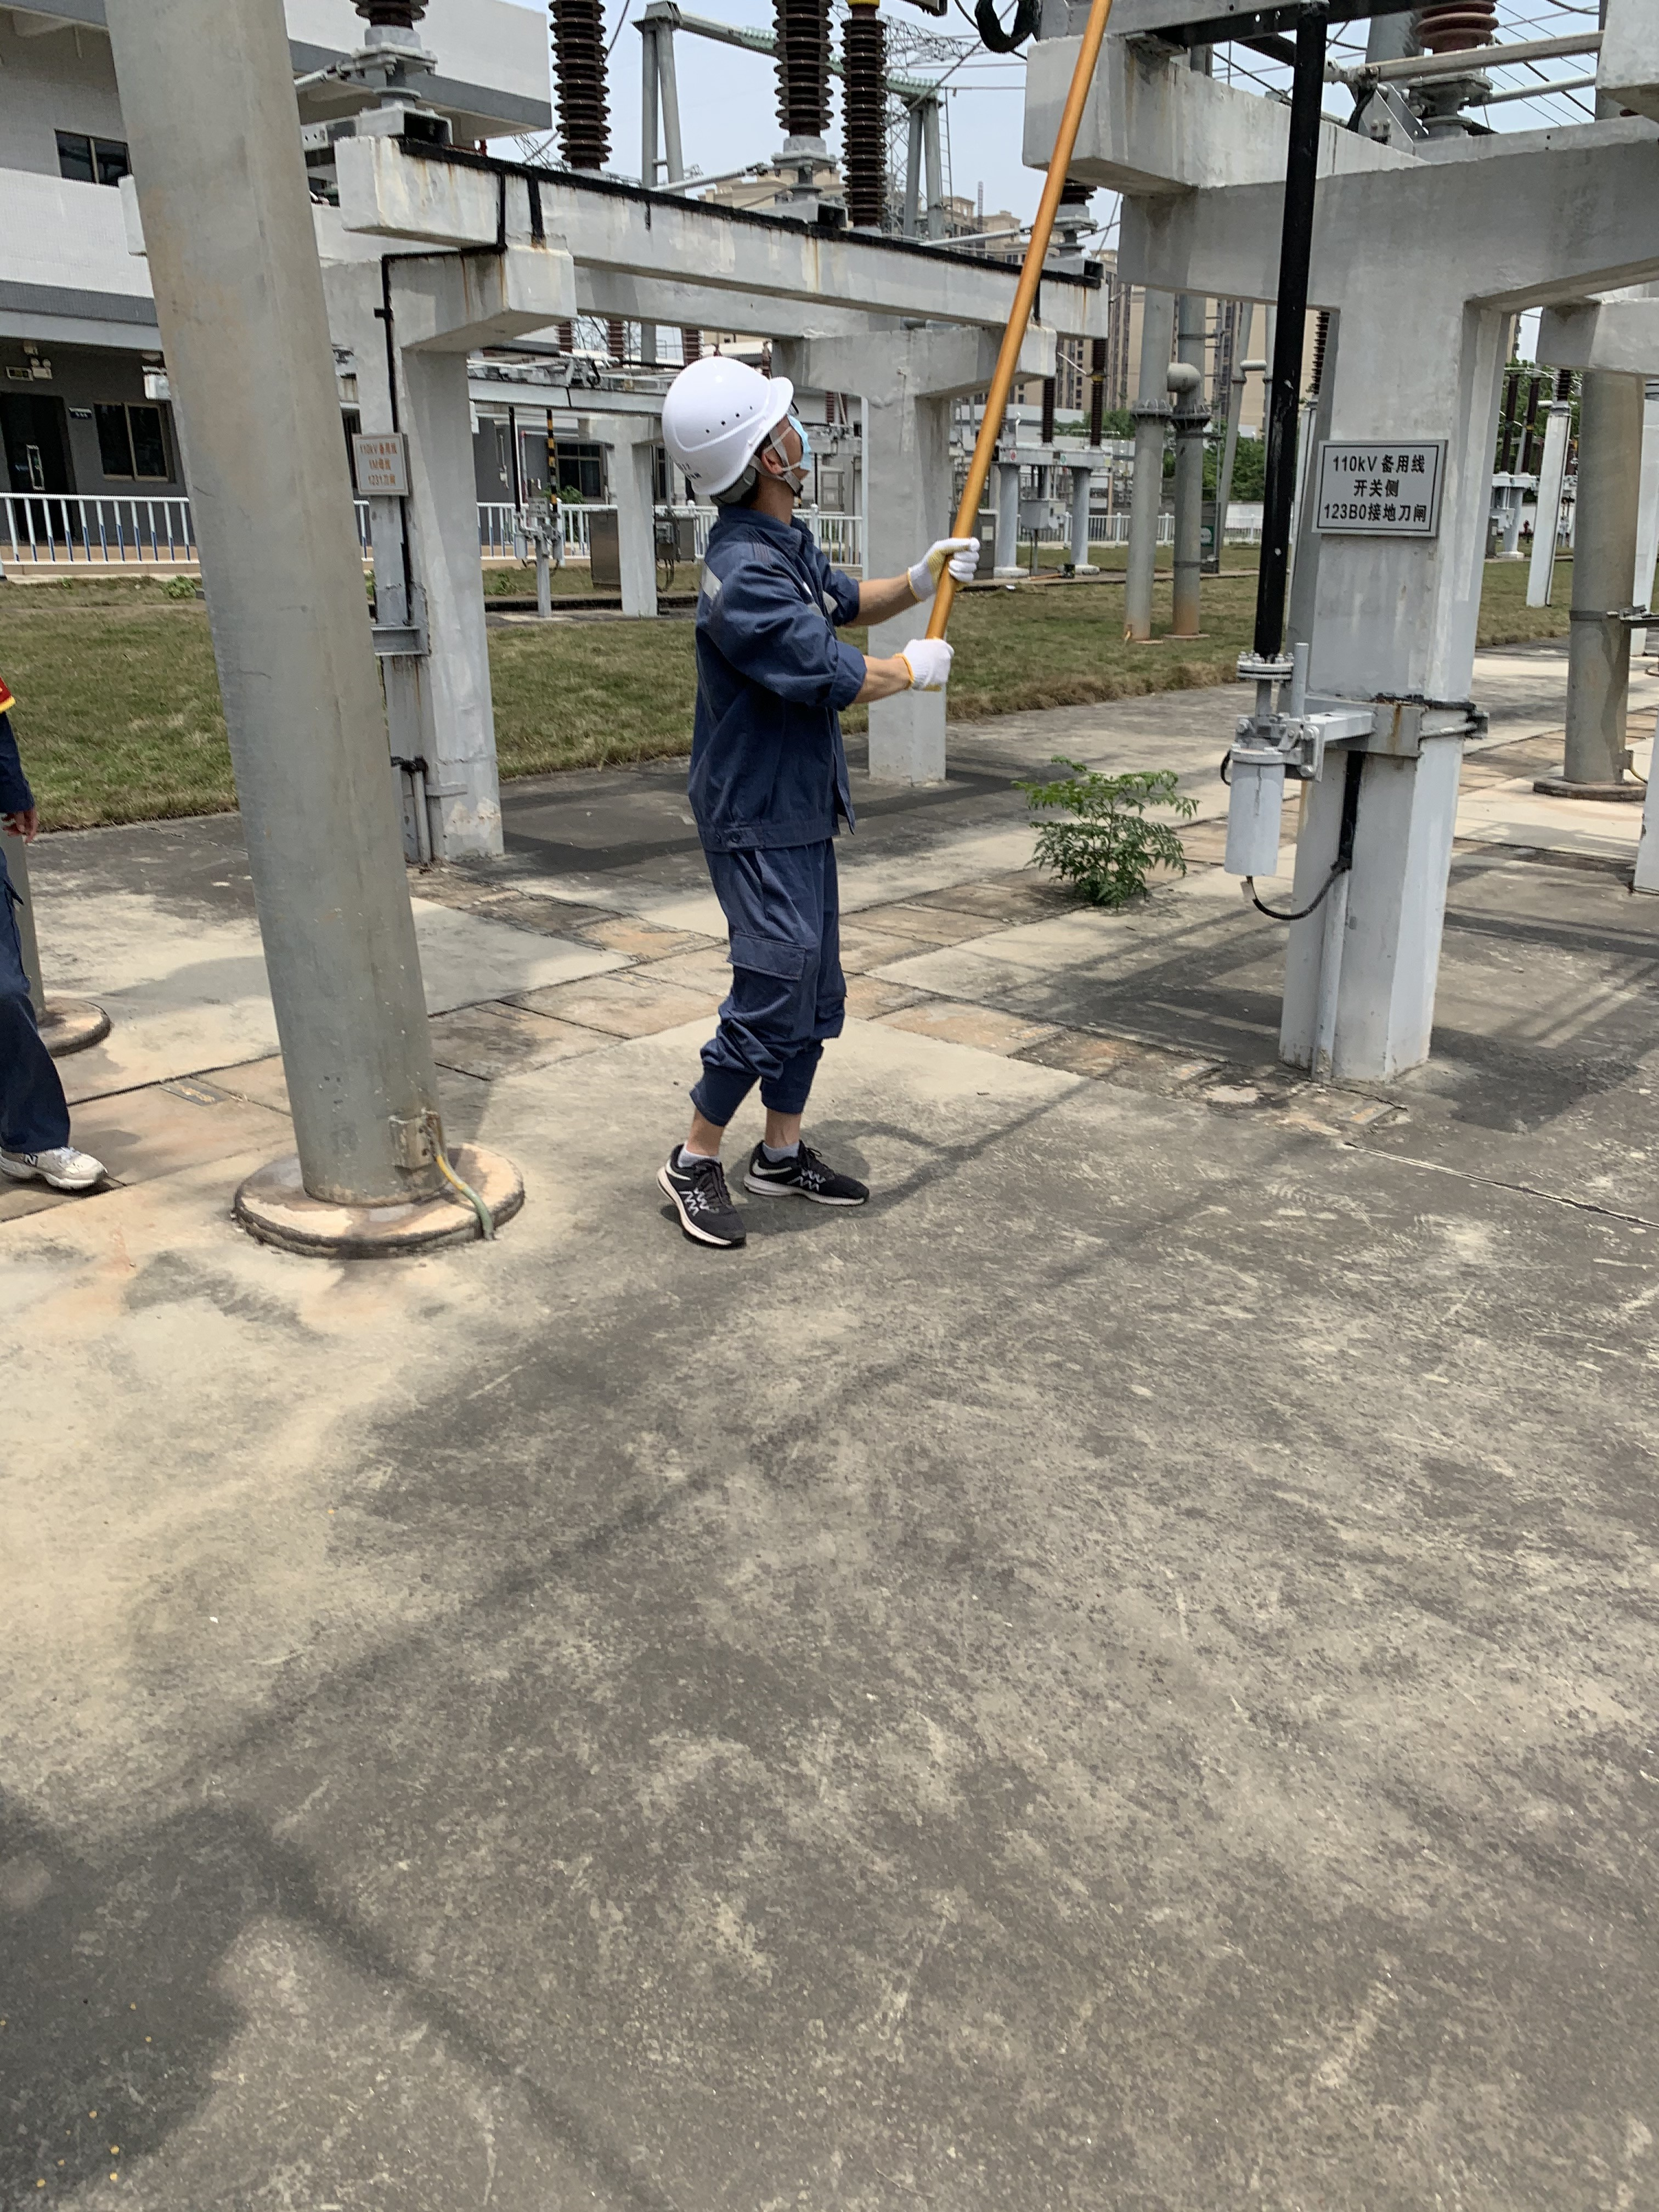downsuit: (674, 796, 873, 1118)
upsuit: (676, 507, 871, 843)
wrongbottom: (669, 1090, 817, 1169)
wrongtop: (859, 550, 951, 711), (838, 561, 925, 714)
